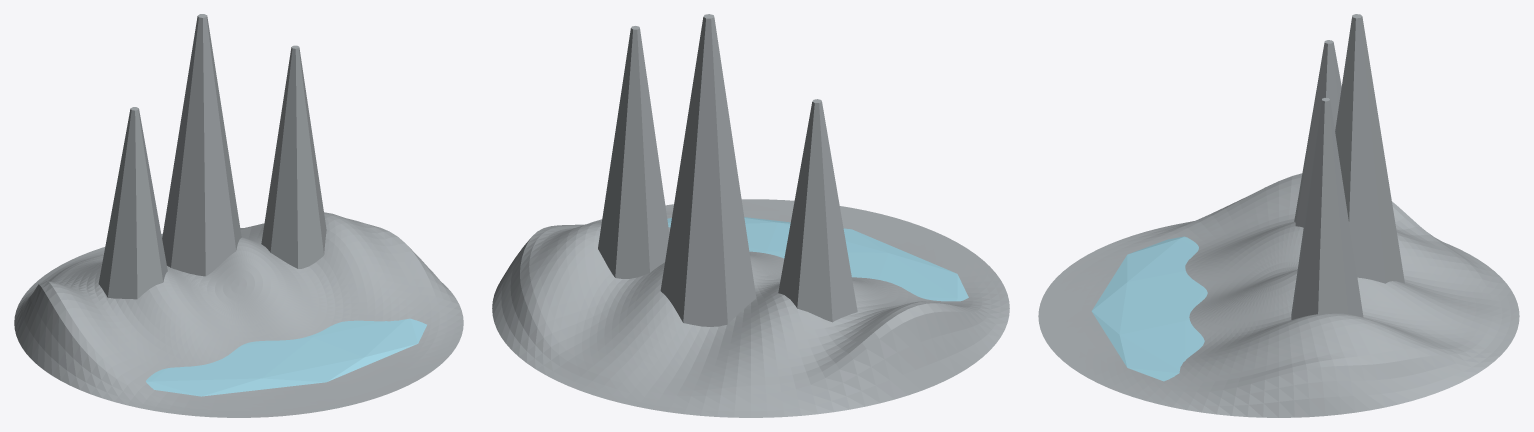
Rendered from FEATURE_TORRES_DEL_PAINE.fbx.
3 renders of one model, left to right at view 1: azimuth 30°, elevation 25°; view 2: azimuth 150°, elevation 25°; view 3: azimuth 270°, elevation 25°, orthographic. The views are drawn at different scales.
Visible parts, largest first — view 1: Scree_apron, Eroded_spire.003, Glacial_lake, Eroded_spire.004, Eroded_spire.002; view 2: Scree_apron, Eroded_spire.003, Eroded_spire.004, Eroded_spire.002, Glacial_lake; view 3: Scree_apron, Glacial_lake, Eroded_spire.003, Eroded_spire.004, Eroded_spire.002.
Part boxes in pixels (x1,y1,x2,y2): Scree_apron: (14,212,463,417); Eroded_spire.003: (162,14,241,276); Glacial_lake: (146,318,426,396); Eroded_spire.004: (261,45,326,268); Eroded_spire.002: (98,107,167,299); Scree_apron: (492,199,1009,417); Eroded_spire.003: (660,14,756,326); Eroded_spire.004: (598,26,669,278); Eroded_spire.002: (778,99,857,322); Glacial_lake: (667,217,968,301); Scree_apron: (1038,173,1519,417); Glacial_lake: (1091,236,1207,381); Eroded_spire.003: (1335,14,1404,283); Eroded_spire.004: (1291,98,1363,319); Eroded_spire.002: (1294,40,1341,227).
Size of the model in its own units: 154 by 107 by 154.
